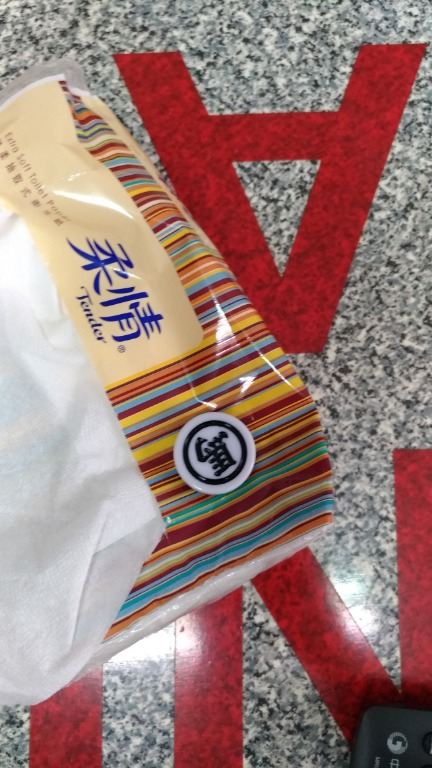b-knight: (153, 403, 283, 500)
